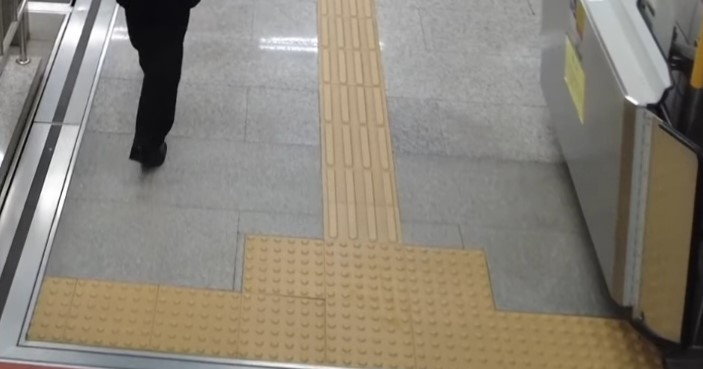guideBlock: (323, 164, 397, 229), (317, 22, 387, 69), (323, 83, 382, 128), (323, 130, 391, 167), (318, 2, 379, 41), (318, 56, 380, 90)
warningBlock: (399, 244, 497, 308), (32, 275, 105, 360), (488, 311, 590, 369), (239, 297, 330, 359), (153, 286, 234, 355), (324, 235, 401, 303), (241, 236, 322, 300), (410, 309, 496, 369), (324, 304, 403, 369), (78, 287, 155, 344), (587, 321, 671, 369)
